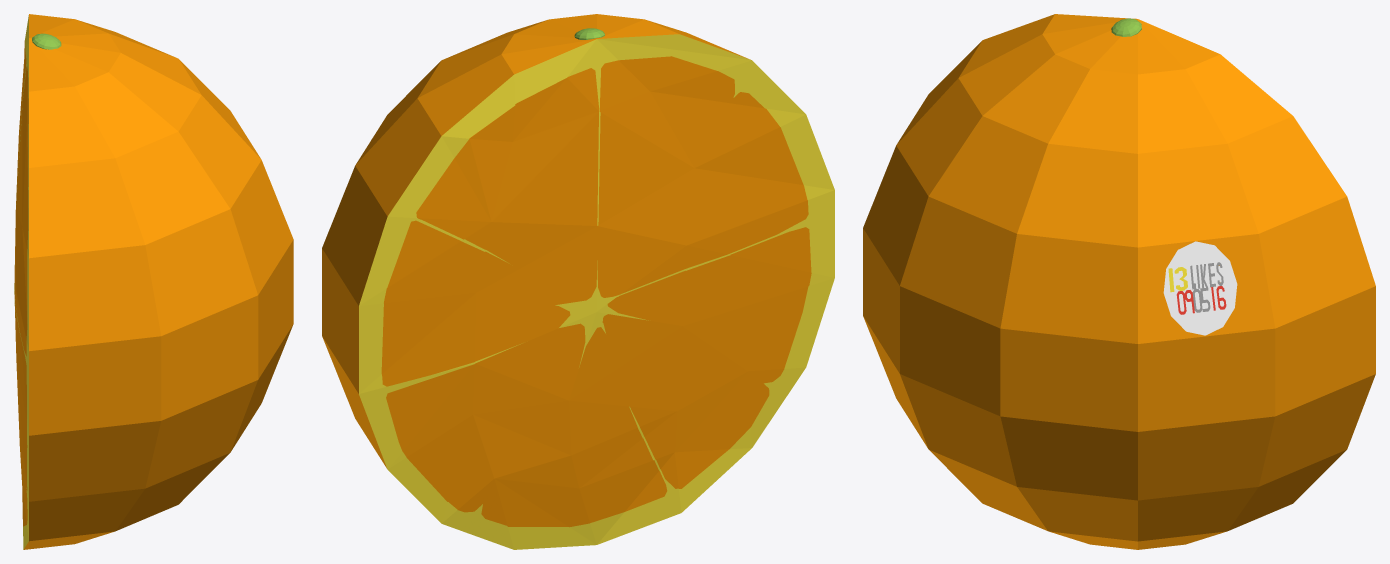
File: Orange.glb
3 views of the same model, side by side, from view 1: azimuth 30°, elevation 25°; view 2: azimuth 150°, elevation 25°; view 3: azimuth 270°, elevation 25° (orthographic). The views are drawn at different scales.
Parts seen in each view (by area): view 1: group1765569351, group1886560871; view 2: group1765569351; view 3: group1765569351, group81871539.
Boxes of the visible parts, x1,y1,x2,y2 form: group1765569351: (14,14,293,549); group1886560871: (32,33,61,49); group1765569351: (322,14,834,549); group1765569351: (863,14,1375,549); group81871539: (1163,241,1237,335).
Bounding box in the file's own units: 1.46 × 1.98 × 1.81.
